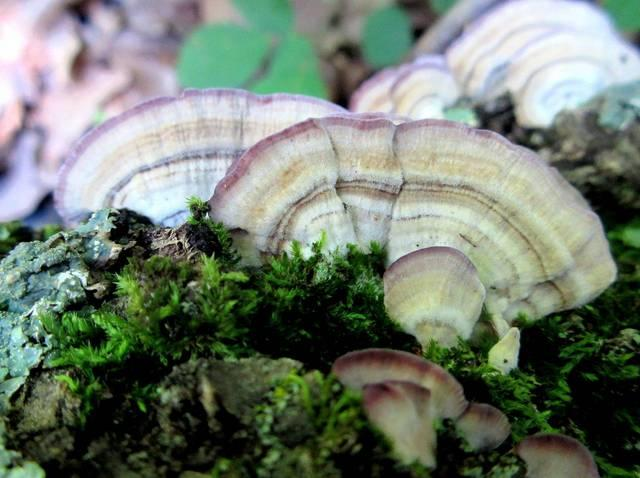Non-edible Mushroom: (204, 110, 618, 365), (52, 85, 352, 230)
